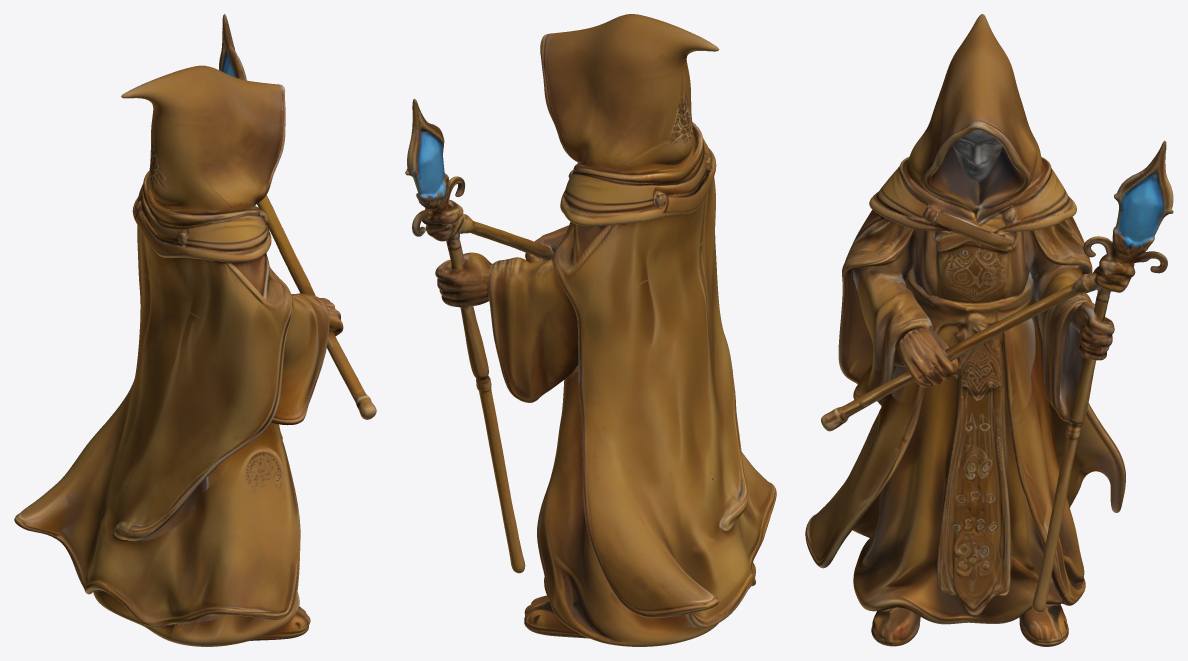
3 views of the same model, side by side, from view 1: azimuth 30°, elevation 25°; view 2: azimuth 150°, elevation 25°; view 3: azimuth 270°, elevation 25° (orthographic). The views are drawn at different scales.
Parts seen in each view (by area): view 1: tripo_node_88ad7a76-a922-4957-afc1-7630b62d9458; view 2: tripo_node_88ad7a76-a922-4957-afc1-7630b62d9458; view 3: tripo_node_88ad7a76-a922-4957-afc1-7630b62d9458.
Boxes of the visible parts, x1=… form: tripo_node_88ad7a76-a922-4957-afc1-7630b62d9458: x1=14, y1=14, x2=376, y2=646; tripo_node_88ad7a76-a922-4957-afc1-7630b62d9458: x1=405, y1=14, x2=776, y2=646; tripo_node_88ad7a76-a922-4957-afc1-7630b62d9458: x1=805, y1=14, x2=1173, y2=646.
Bounding box in the file's own units: 0.4834 × 1 × 0.5817.
Materials: 1 (1 with a texture image).
